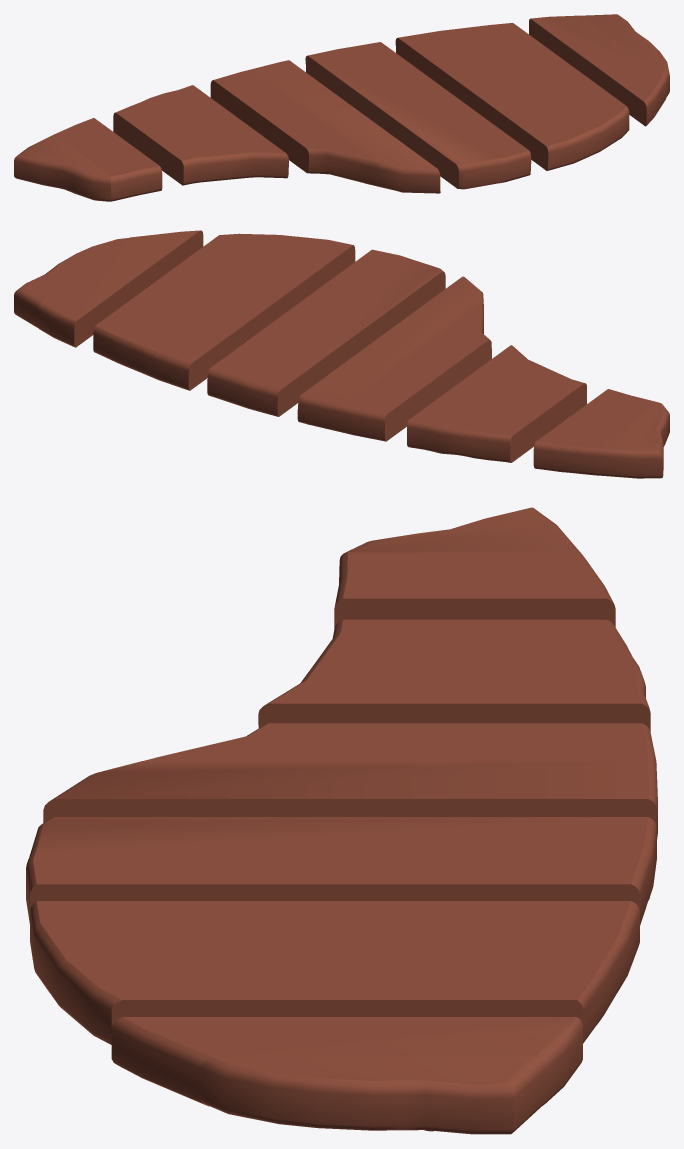
The model's file is Et pişmiş KESİLMİŞ.fbx.
The picture shows the model from 3 angles, top to bottom: view 1: azimuth 30°, elevation 25°; view 2: azimuth 150°, elevation 25°; view 3: azimuth 270°, elevation 25°; orthographic projection. The views are drawn at different scales.
Visible parts, largest first — view 1: Cube.007; view 2: Cube.007; view 3: Cube.007.
Part boxes in pixels (x1=…): Cube.007: x1=14, y1=14, x2=669, y2=201; Cube.007: x1=14, y1=230, x2=669, y2=478; Cube.007: x1=26, y1=507, x2=657, y2=1134.
Bounding box in the file's own units: 76.75 × 3.06 × 35.
